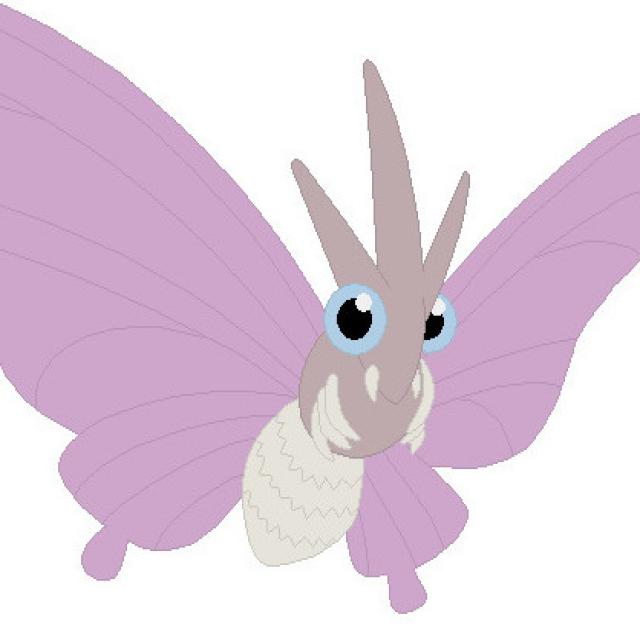Venomoth: (85, 157, 513, 584)
